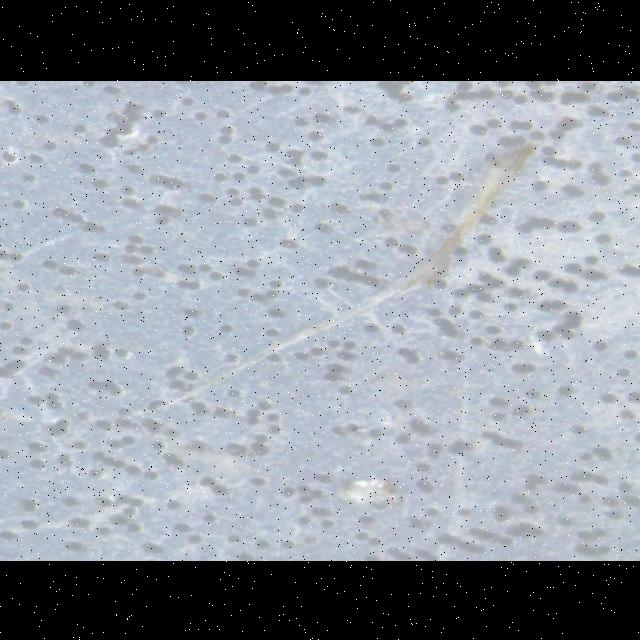Fibre: (89, 136, 544, 422)
